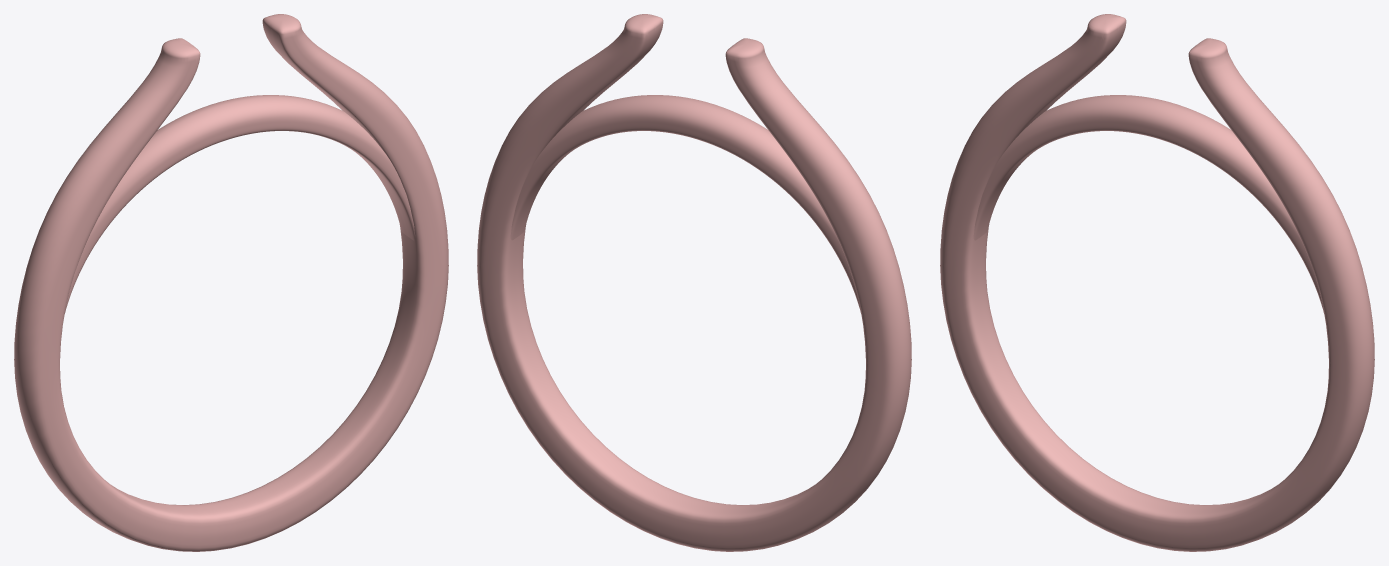
The model's file is CATHEDRAL.glb.
3 renders of one model, left to right at view 1: azimuth 30°, elevation 25°; view 2: azimuth 150°, elevation 25°; view 3: azimuth 330°, elevation 25°, orthographic.
Parts seen in each view (by area): view 1: cathedral; view 2: cathedral; view 3: cathedral.
Boxes of the visible parts, bbox=[...] form: cathedral: bbox=[14, 14, 448, 551]; cathedral: bbox=[477, 14, 911, 551]; cathedral: bbox=[940, 14, 1374, 551].
Size of the model in its own units: 15.49 by 17.63 by 1.3.
